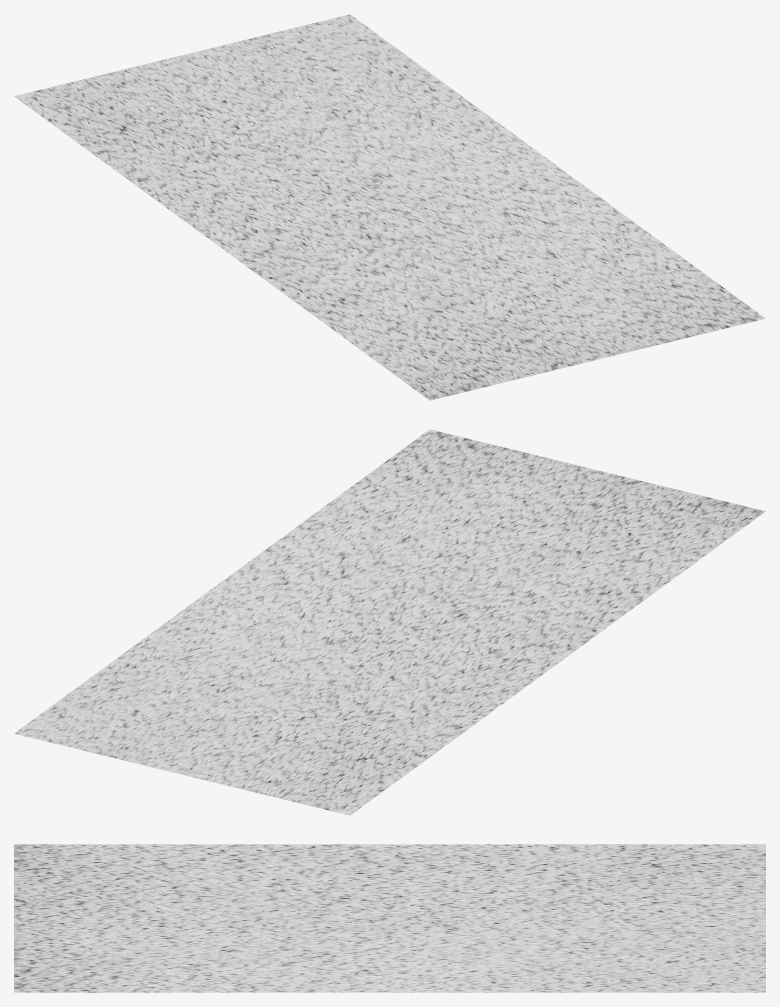
The model's file is carpet.glb.
3 views of the same model, one above another, from view 1: azimuth 30°, elevation 25°; view 2: azimuth 150°, elevation 25°; view 3: azimuth 270°, elevation 25° (orthographic). The views are drawn at different scales.
Parts seen in each view (by area): view 1: Plane; view 2: Plane; view 3: Plane.
Part boxes in pixels (x1,y1,x2,y2): Plane: (14,14,765,400); Plane: (14,429,765,815); Plane: (14,844,765,992).
Bounding box in the file's own units: 2.49 × 0 × 5.33.
Materials: 1 (1 with a texture image).
